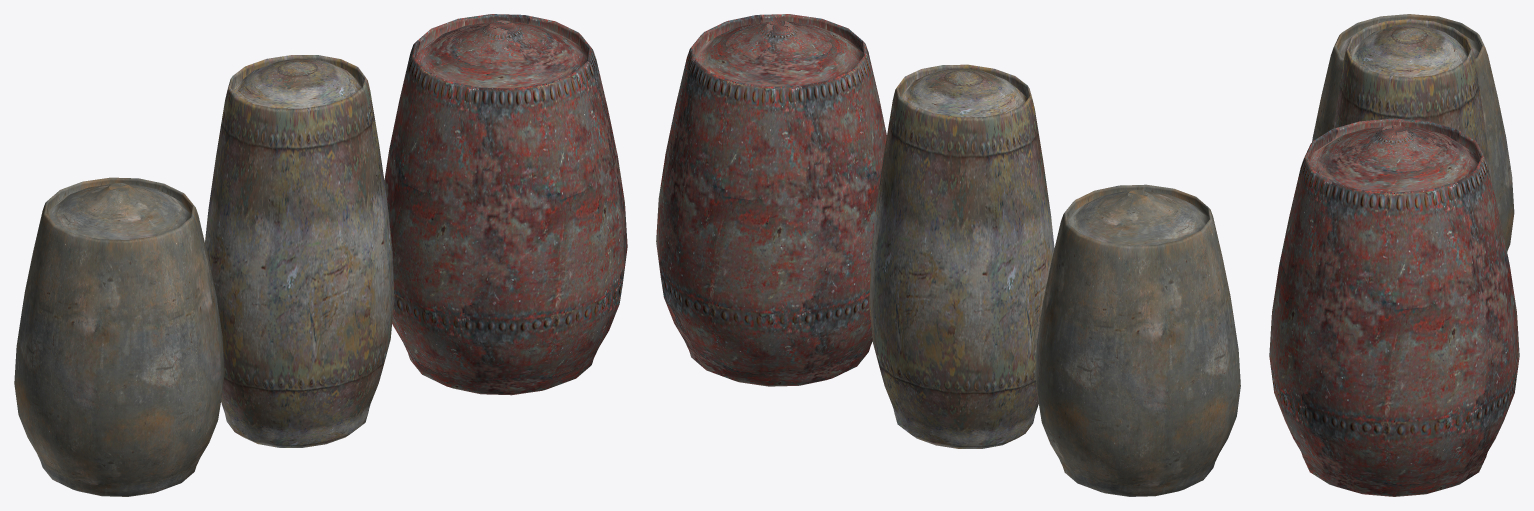
The model's file is Pots_3.FBX.
The picture shows the model from 3 angles, left to right: view 1: azimuth 30°, elevation 25°; view 2: azimuth 150°, elevation 25°; view 3: azimuth 270°, elevation 25°; orthographic projection. The views are drawn at different scales.
Parts seen in each view (by area): view 1: Pot002, Pot003, Pot1; view 2: Pot002, Pot003, Pot1; view 3: Pot002, Pot003, Pot1.
Boxes of the visible parts, box(x1,y1,x2,y2) form: Pot002: box(384, 14, 627, 395); Pot003: box(205, 55, 394, 447); Pot1: box(14, 177, 224, 496); Pot002: box(656, 14, 886, 386); Pot003: box(869, 64, 1054, 448); Pot1: box(1035, 184, 1240, 496); Pot002: box(1269, 118, 1519, 496); Pot003: box(1333, 19, 1491, 182); Pot1: box(1312, 14, 1514, 251).
Bounding box in the file's own units: 2.21 × 1.33 × 0.8374.
Materials: 3 (3 with a texture image).
